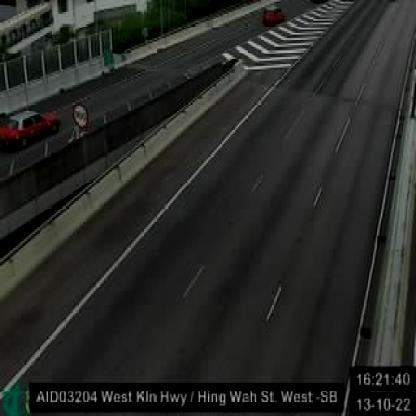Car: (0, 107, 58, 153), (262, 3, 285, 25)
